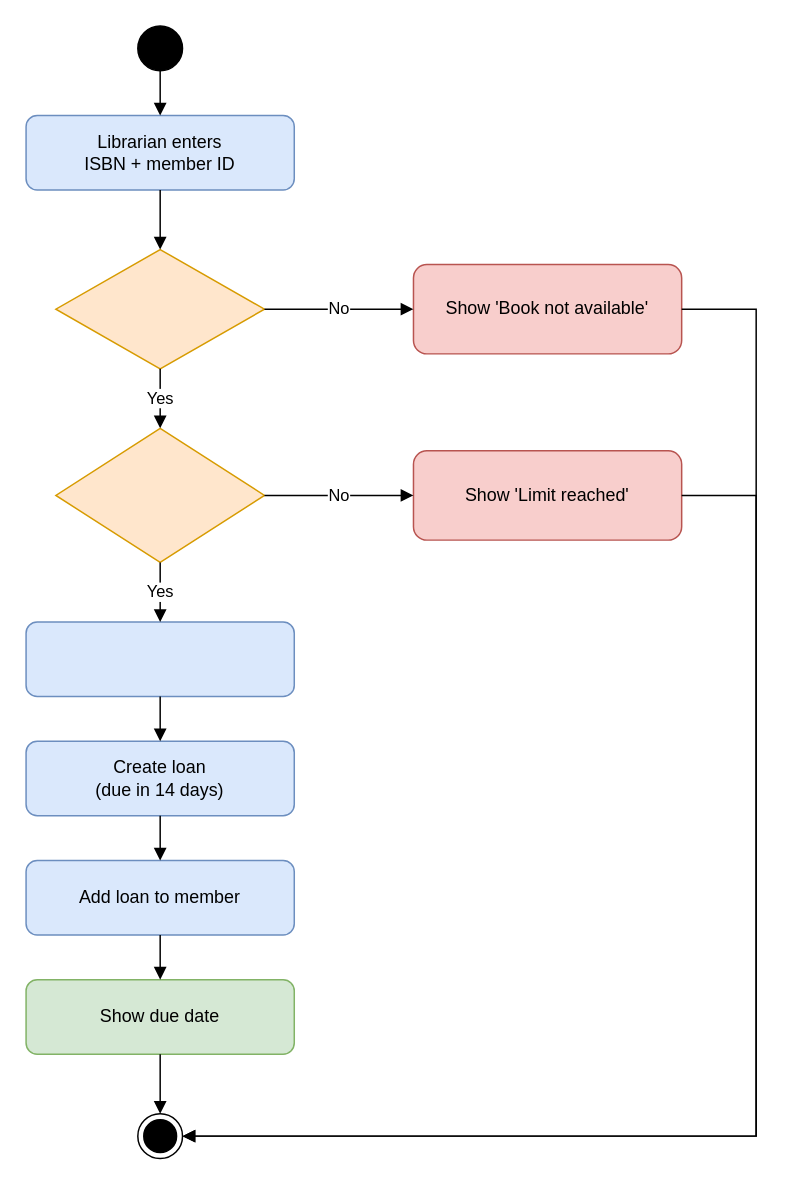
The diagram is 794 pixels wide and 1185 high, and some of its shapes have lost their labels. The centre of each missing label's shape, as x and y in pixels:
"Book available?" goes at (159,308).
"Member under 3 books?" goes at (159,494).
"Set book status = ISSUED" goes at (159,659).
